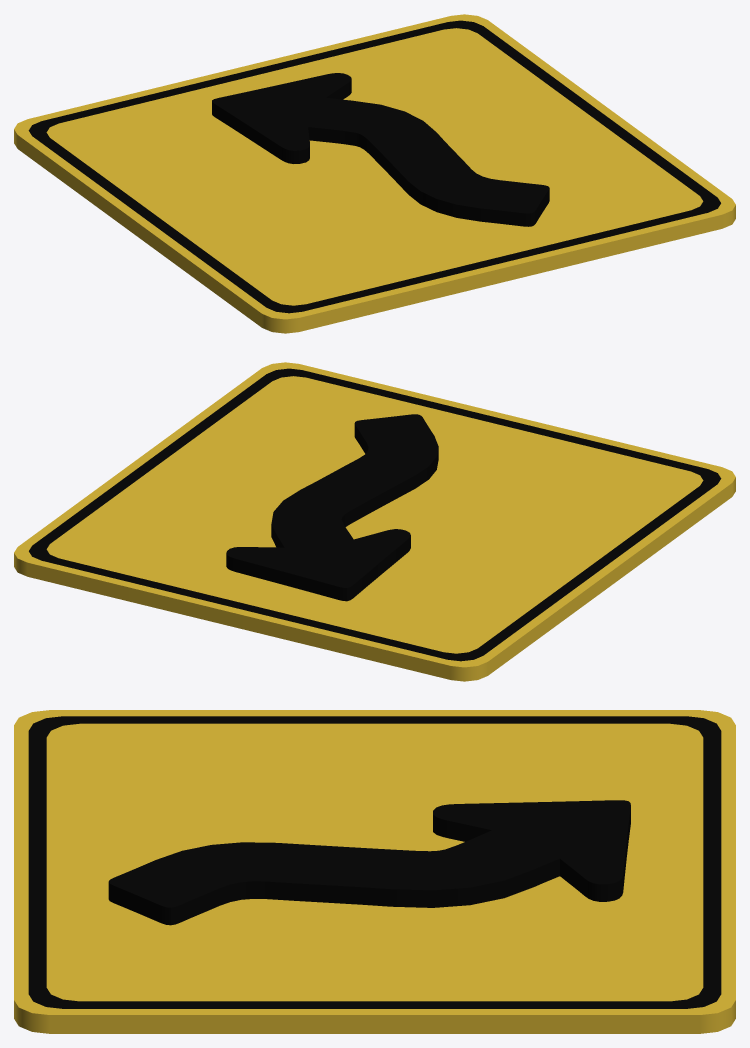
File: right_reverse_curve_sign.fbx
3 views of the same model, one above another, from view 1: azimuth 30°, elevation 25°; view 2: azimuth 150°, elevation 25°; view 3: azimuth 270°, elevation 25° (orthographic). The views are drawn at different scales.
Visible parts, largest first — view 1: square_yellow_sign, RightReverseCurve; view 2: square_yellow_sign, RightReverseCurve; view 3: square_yellow_sign, RightReverseCurve.
Boxes of the visible parts, x1,y1,x2,y2 form: square_yellow_sign: (14, 14, 735, 333); RightReverseCurve: (212, 73, 549, 226); square_yellow_sign: (14, 362, 735, 681); RightReverseCurve: (226, 414, 438, 601); square_yellow_sign: (14, 710, 735, 1033); RightReverseCurve: (108, 800, 630, 925).
Size of the model in its own units: 70.96 by 3.94 by 70.96.
